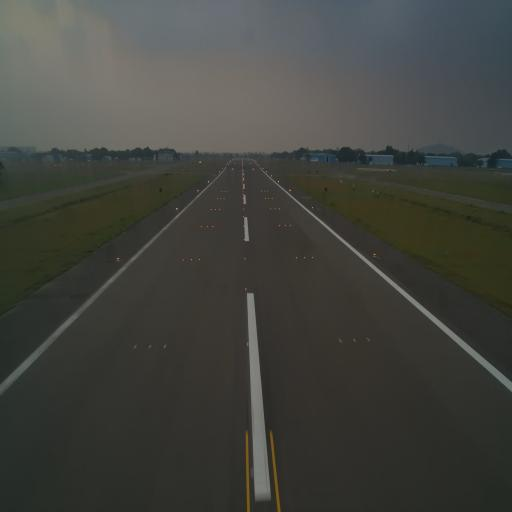on: (163, 342, 168, 352), (148, 342, 153, 351), (133, 340, 137, 351), (366, 334, 370, 345), (352, 336, 357, 344), (339, 337, 343, 346), (116, 255, 120, 264), (246, 341, 250, 348), (181, 258, 185, 264), (294, 255, 298, 261), (303, 254, 306, 262), (310, 254, 314, 260), (244, 287, 248, 292), (373, 251, 376, 257), (190, 256, 193, 262), (244, 256, 246, 262), (199, 258, 201, 262)
